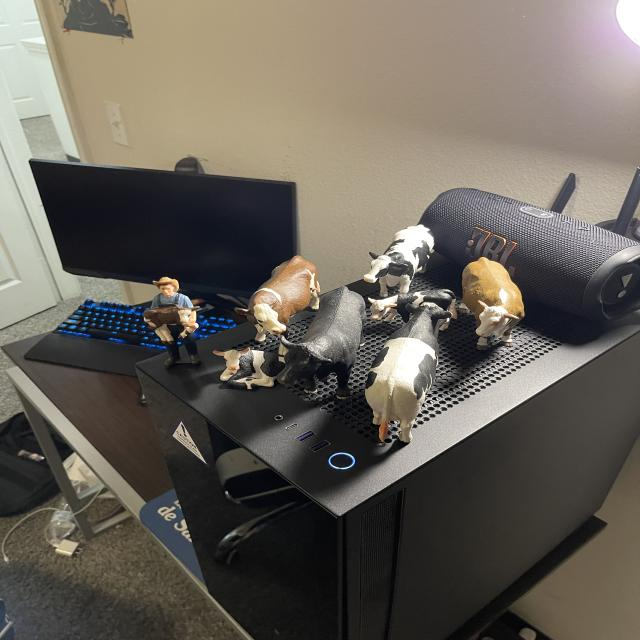cow: (348, 297, 458, 450), (271, 276, 372, 401), (228, 249, 335, 348), (353, 210, 445, 309), (455, 251, 530, 352), (367, 284, 456, 325), (214, 343, 286, 393), (143, 303, 199, 341)
person: (149, 277, 193, 309)
